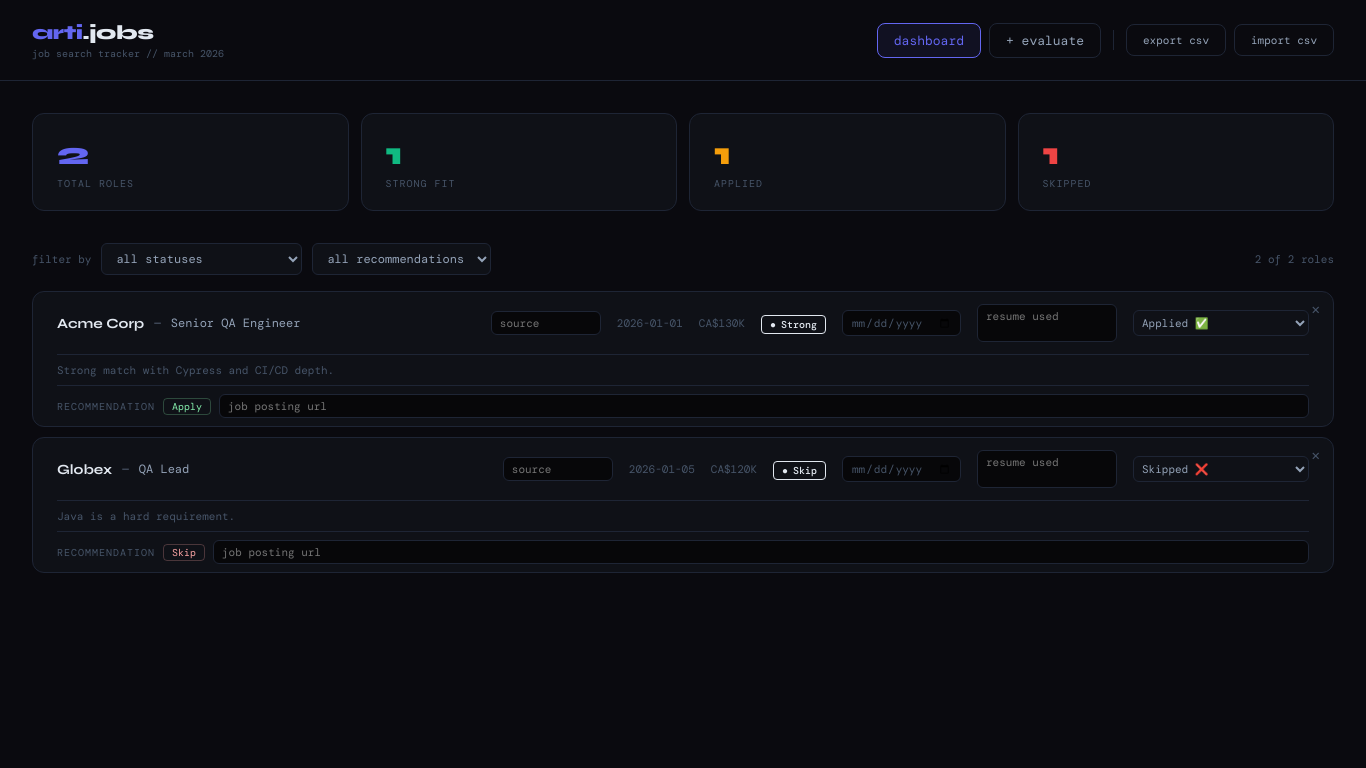
it: evaluate view state › shows the posting textarea when evaluate nav is clicked
Expected: the element with test id "job-list" is shown, [32,291,1334,573]
What coordinates should you click on to do the following:
click the button with test id "nav-evaluate"
I would click on:
 (1045, 40)
Its box is [989,22,1101,58].
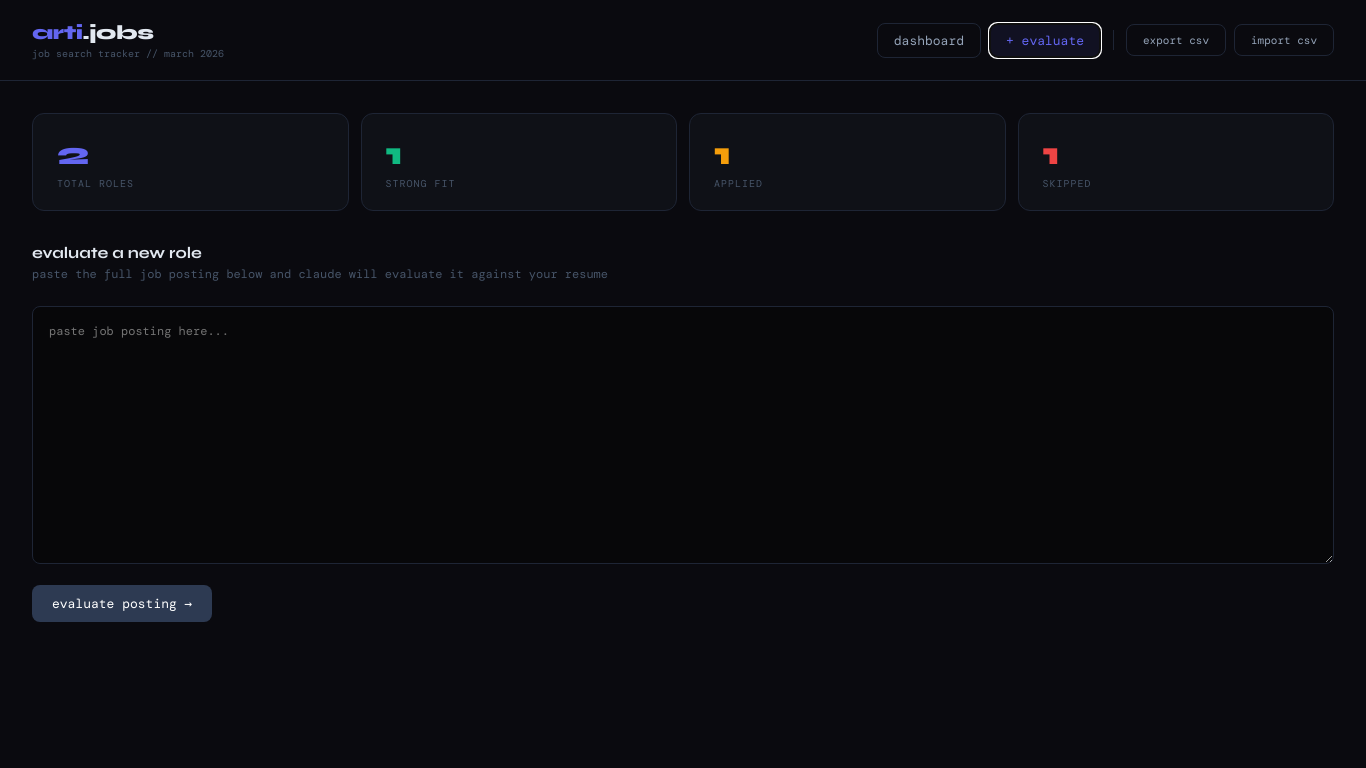
Expected: the text box with test id "job-posting-input" is shown, [32,306,1334,564]
